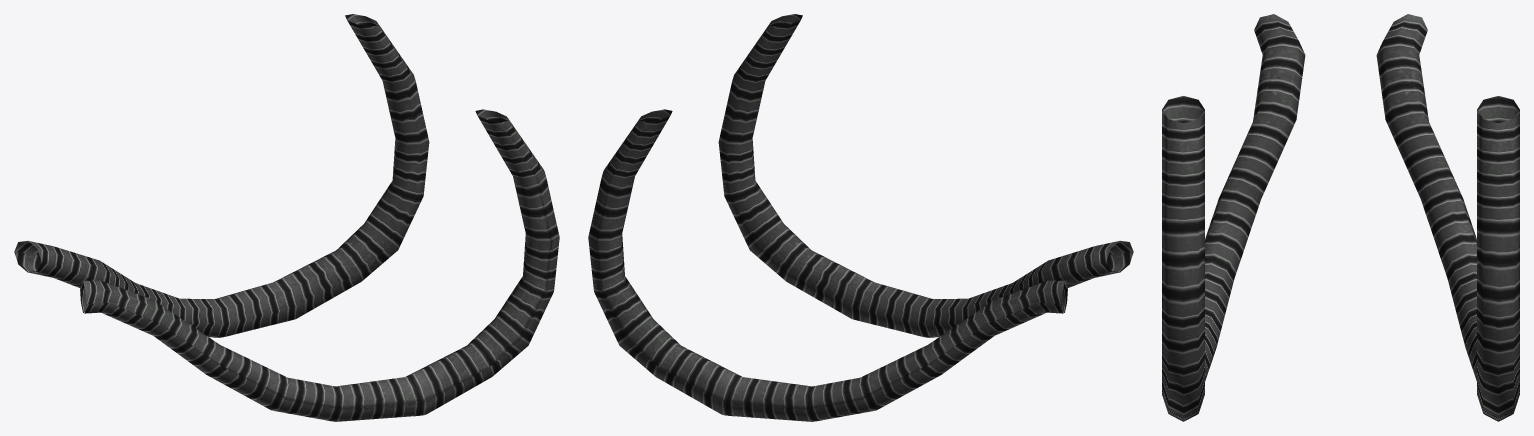
File: phase_hoses.fbx
The picture shows the model from 3 angles, left to right: view 1: azimuth 30°, elevation 25°; view 2: azimuth 150°, elevation 25°; view 3: azimuth 270°, elevation 25°; orthographic projection. The views are drawn at different scales.
Parts seen in each view (by area): view 1: node_fc0a717e_47a6_4687_b39b_21febc96a4fd_mesh0; view 2: node_fc0a717e_47a6_4687_b39b_21febc96a4fd_mesh0; view 3: node_fc0a717e_47a6_4687_b39b_21febc96a4fd_mesh0.
Boxes of the visible parts, x1=… form: node_fc0a717e_47a6_4687_b39b_21febc96a4fd_mesh0: x1=14, y1=14, x2=559, y2=421; node_fc0a717e_47a6_4687_b39b_21febc96a4fd_mesh0: x1=588, y1=14, x2=1133, y2=421; node_fc0a717e_47a6_4687_b39b_21febc96a4fd_mesh0: x1=1162, y1=14, x2=1519, y2=421.
Bounding box in the file's own units: 182 × 113 × 105.
Materials: 1 (1 with a texture image).
